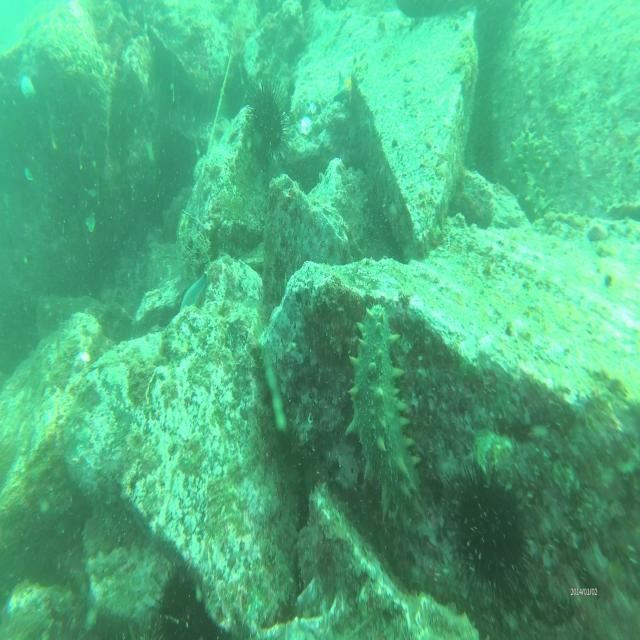echinus: (451, 466, 531, 604), (150, 558, 206, 637), (248, 76, 294, 158)
holothurian: (344, 299, 420, 521), (503, 125, 553, 222)
starfish: (177, 271, 208, 311), (335, 71, 357, 105), (296, 116, 314, 135)
